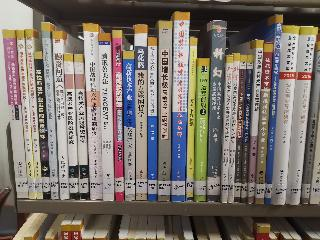book-spine: (283, 25, 318, 205), (269, 26, 300, 206), (1, 29, 29, 200), (169, 11, 190, 202), (205, 20, 227, 202), (264, 13, 283, 206), (23, 29, 44, 199), (17, 30, 37, 200), (41, 21, 60, 199), (51, 31, 71, 200), (300, 34, 320, 203), (83, 23, 102, 199), (245, 40, 265, 205), (254, 42, 272, 206), (133, 25, 149, 199), (98, 32, 114, 201), (33, 52, 51, 200), (159, 20, 173, 201), (72, 52, 89, 199), (194, 59, 211, 201), (63, 53, 79, 200), (185, 35, 199, 200), (226, 53, 241, 203), (111, 30, 124, 201), (232, 56, 247, 202), (239, 54, 253, 204), (123, 51, 136, 201), (220, 56, 233, 203), (147, 39, 158, 201)
